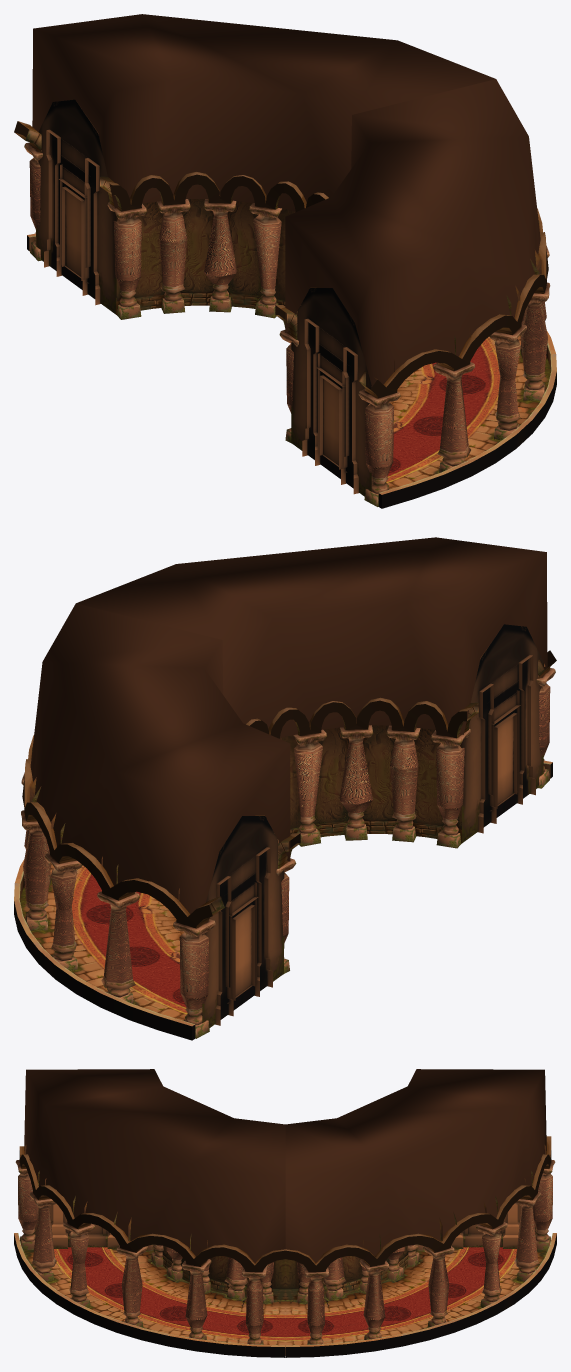
The model's file is BG_Hall_Stage_RedCarpet_141104.fbx.
The picture shows the model from 3 angles, top to bottom: view 1: azimuth 30°, elevation 25°; view 2: azimuth 150°, elevation 25°; view 3: azimuth 270°, elevation 25°; orthographic projection. The views are drawn at different scales.
Parts seen in each view (by area): view 1: BG_Hall_Stage_Redcarpet_Dumy, BG_Hall_Stage_Redcarpet_Door, BG_Hall_Stage_Redcarpet_Columm, BG_Hall_Stage_Redcarpet_Wall, BG_Hall_Stage_Redcarpet_Floor; view 2: BG_Hall_Stage_Redcarpet_Dumy, BG_Hall_Stage_Redcarpet_Door, BG_Hall_Stage_Redcarpet_Columm, BG_Hall_Stage_Redcarpet_Wall, BG_Hall_Stage_Redcarpet_Floor; view 3: BG_Hall_Stage_Redcarpet_Dumy, BG_Hall_Stage_Redcarpet_Floor, BG_Hall_Stage_Redcarpet_Columm, BG_Hall_Stage_Redcarpet_Wall, BG_Hall_Stage_Redcarpet_Door, BG_Hall_Stage_Redcarpet_Celling.
Boxes of the visible parts, x1,y1,x2,y2 form: BG_Hall_Stage_Redcarpet_Dumy: (32, 14, 540, 394); BG_Hall_Stage_Redcarpet_Door: (36, 99, 372, 496); BG_Hall_Stage_Redcarpet_Columm: (24, 142, 550, 506); BG_Hall_Stage_Redcarpet_Wall: (14, 121, 548, 398); BG_Hall_Stage_Redcarpet_Floor: (27, 233, 556, 508); BG_Hall_Stage_Redcarpet_Dumy: (30, 537, 547, 924); BG_Hall_Stage_Redcarpet_Door: (201, 624, 543, 1027); BG_Hall_Stage_Redcarpet_Columm: (21, 668, 555, 1038); BG_Hall_Stage_Redcarpet_Wall: (22, 650, 556, 948); BG_Hall_Stage_Redcarpet_Floor: (14, 760, 552, 1040); BG_Hall_Stage_Redcarpet_Dumy: (24, 1069, 546, 1262); BG_Hall_Stage_Redcarpet_Floor: (14, 1233, 556, 1357); BG_Hall_Stage_Redcarpet_Columm: (15, 1159, 555, 1344); BG_Hall_Stage_Redcarpet_Wall: (19, 1136, 551, 1299); BG_Hall_Stage_Redcarpet_Door: (34, 1203, 536, 1248); BG_Hall_Stage_Redcarpet_Celling: (25, 1145, 545, 1250).
Size of the model in its own units: 105 by 71.82 by 201.
